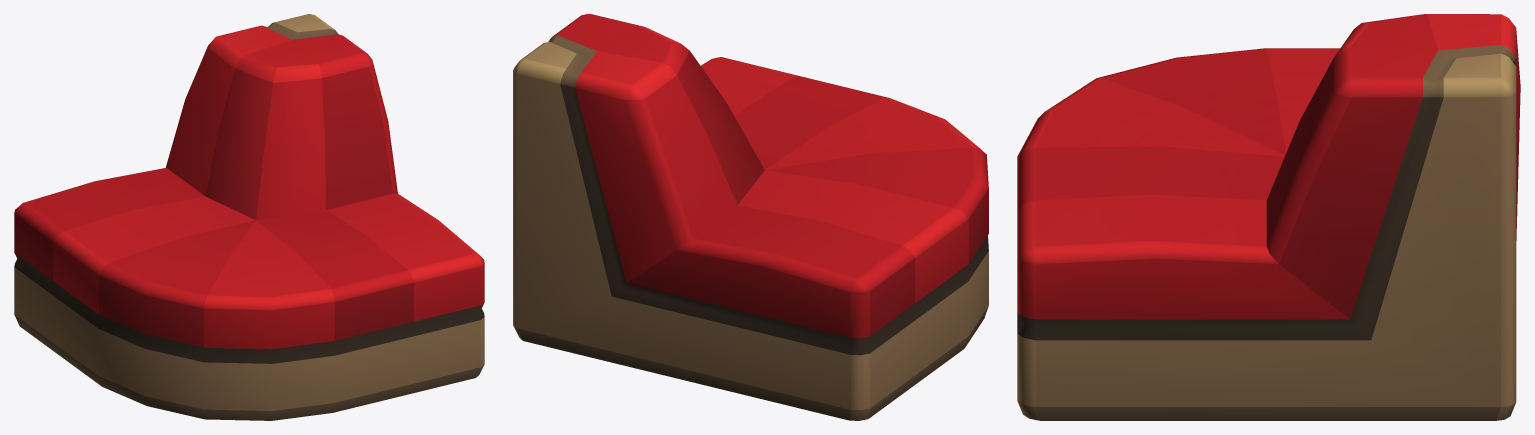
Rendered from seating_outdoor1_1_corner_conv_LOD_setup.fbx.
3 renders of one model, left to right at view 1: azimuth 30°, elevation 25°; view 2: azimuth 150°, elevation 25°; view 3: azimuth 270°, elevation 25°, orthographic. The views are drawn at different scales.
Parts seen in each view (by area): view 1: seating_outdoor1_1_corner_conv_LOD0; view 2: seating_outdoor1_1_corner_conv_LOD0; view 3: seating_outdoor1_1_corner_conv_LOD0.
Part boxes in pixels (x1,y1,x2,y2): seating_outdoor1_1_corner_conv_LOD0: [14, 14, 484, 420]; seating_outdoor1_1_corner_conv_LOD0: [513, 14, 988, 420]; seating_outdoor1_1_corner_conv_LOD0: [1017, 14, 1520, 420].
Size of what is drawn, in the model's own units: 101 by 75 by 101.
